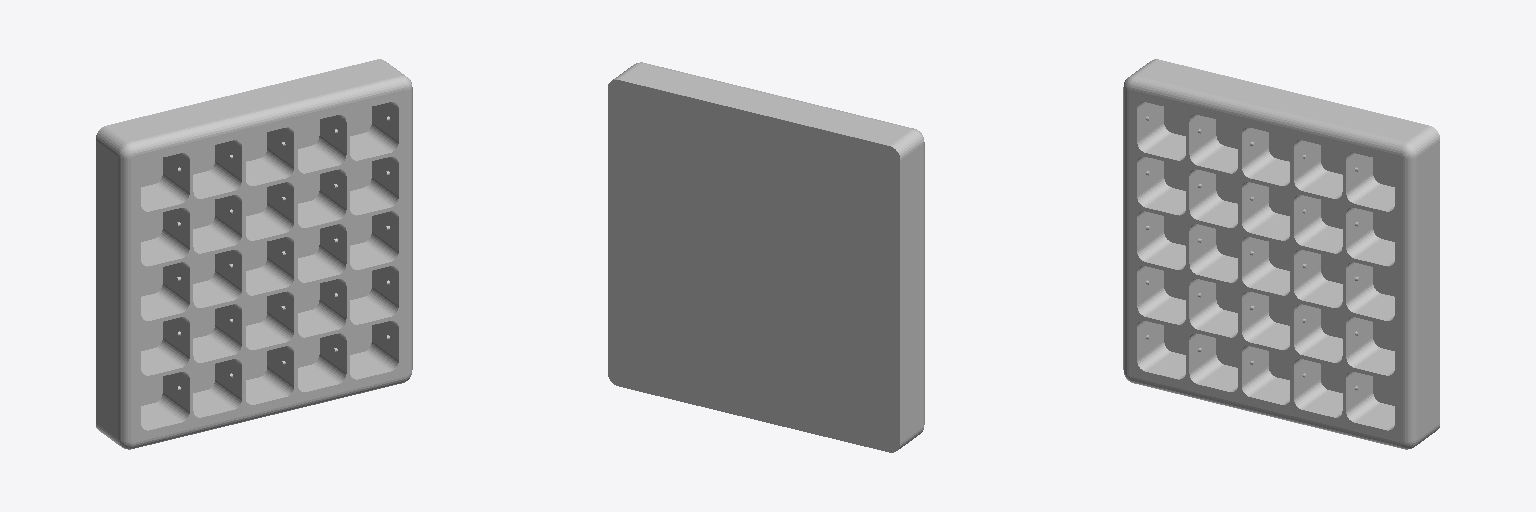
File: top.obj
3 views of the same model, side by side, from view 1: azimuth 30°, elevation 25°; view 2: azimuth 150°, elevation 25°; view 3: azimuth 330°, elevation 25° (orthographic).
Visible parts, largest first — view 1: mmGroup0; view 2: mmGroup0; view 3: mmGroup0.
Part boxes in pixels (x1,y1,x2,y2): mmGroup0: (96,59,412,449); mmGroup0: (608,62,924,452); mmGroup0: (1123,59,1439,449).
Bounding box in the file's own units: 157 × 157 × 26.